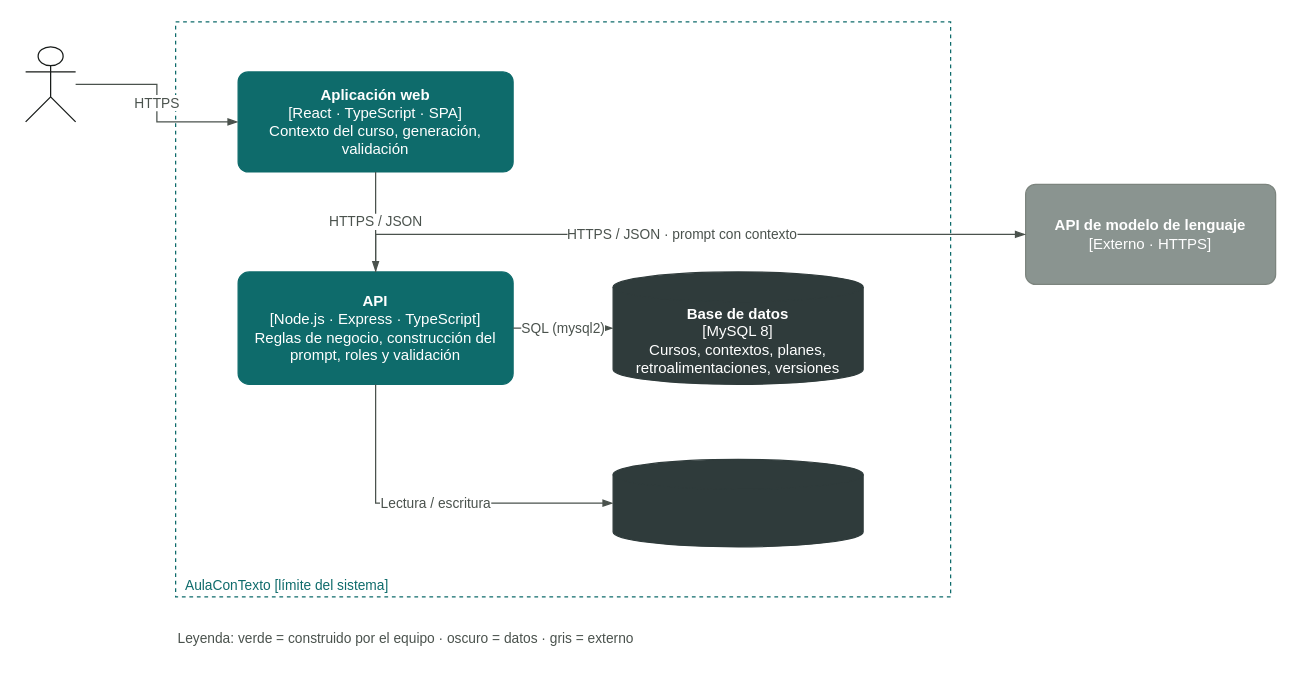
Some shapes in this 1298 by 674 pixel diagram are drawn without their labels. The shapes that lost their labels are listed below. From the top down, each one's centre as x and y in pixels, then its label:
the point at 50,84: Docente
the point at 737,502: Archivos [Volumen Docker] Materiales y trabajos cargados
